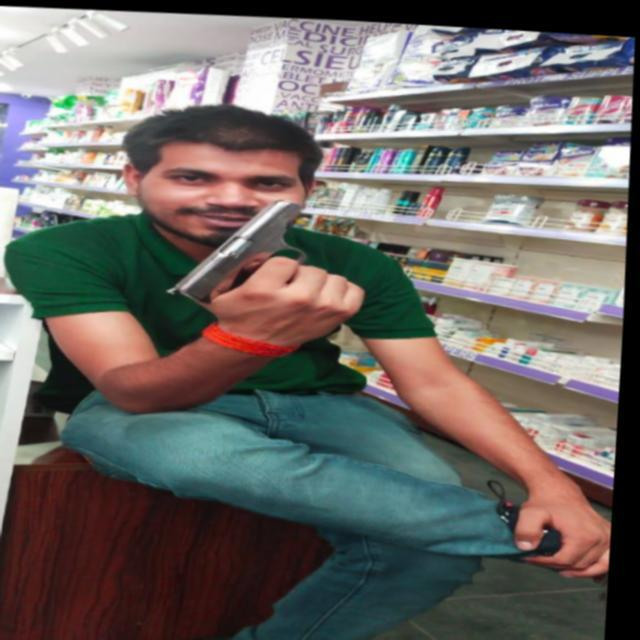weapon: (162, 188, 368, 339)
